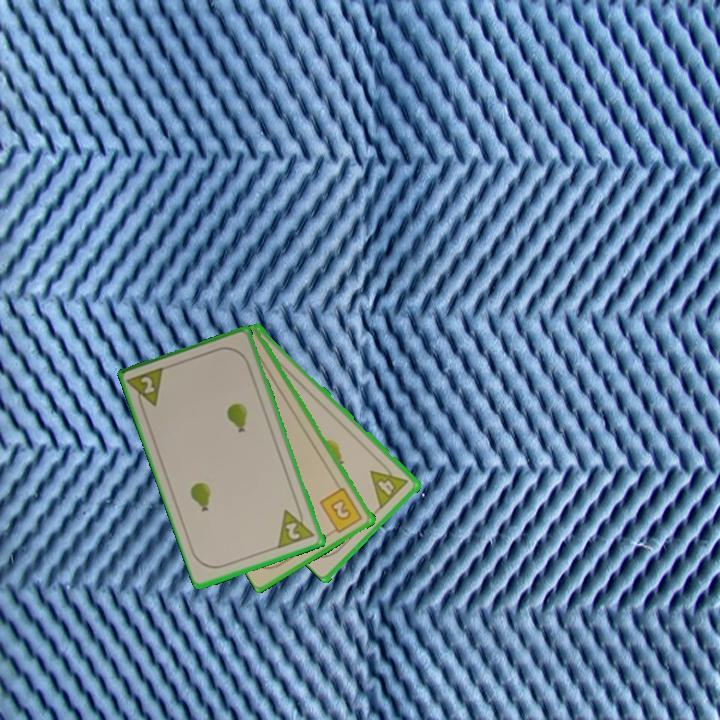2b: (317, 484, 366, 537)
2p: (125, 363, 168, 414), (275, 502, 318, 552)
4p: (367, 458, 412, 511)
